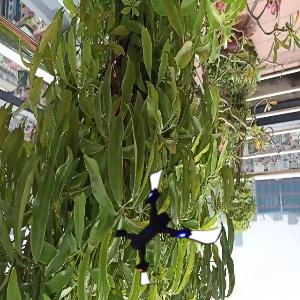drone: (108, 171, 214, 277)
